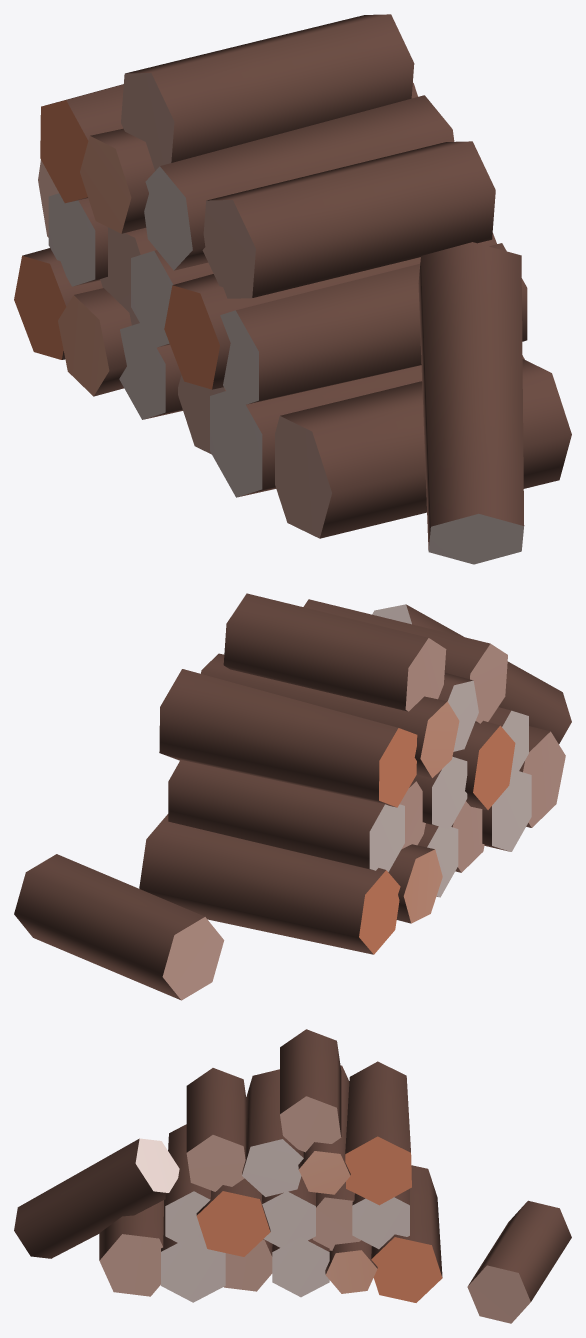
The model's file is log_004.glb.
3 renders of one model, top to bottom at view 1: azimuth 30°, elevation 25°; view 2: azimuth 150°, elevation 25°; view 3: azimuth 270°, elevation 25°, orthographic. The views are drawn at different scales.
Visible parts, largest first — view 1: log_004; view 2: log_004; view 3: log_004.
Part boxes in pixels (x1=…): log_004: x1=14, y1=14, x2=571, y2=564; log_004: x1=14, y1=593, x2=571, y2=1000; log_004: x1=14, y1=1029, x2=571, y2=1323.
Size of the model in its own units: 0.6107 by 0.5442 by 1.36.
1 material, 1 textured.
